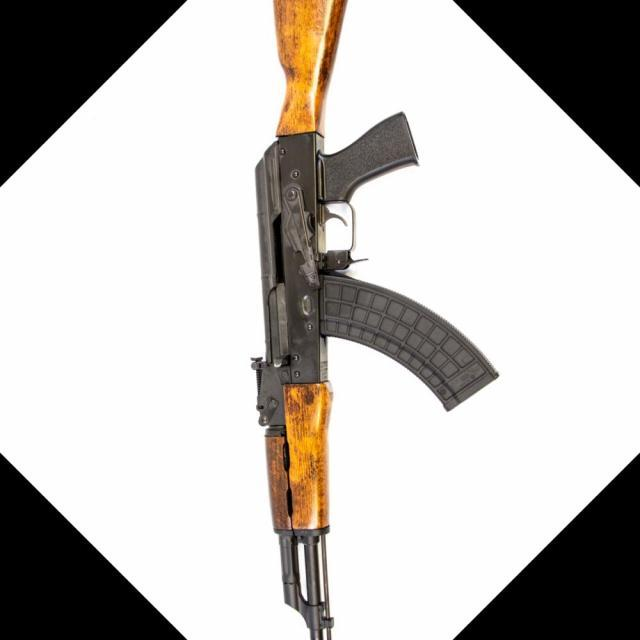weapon: (250, 0, 500, 640)
